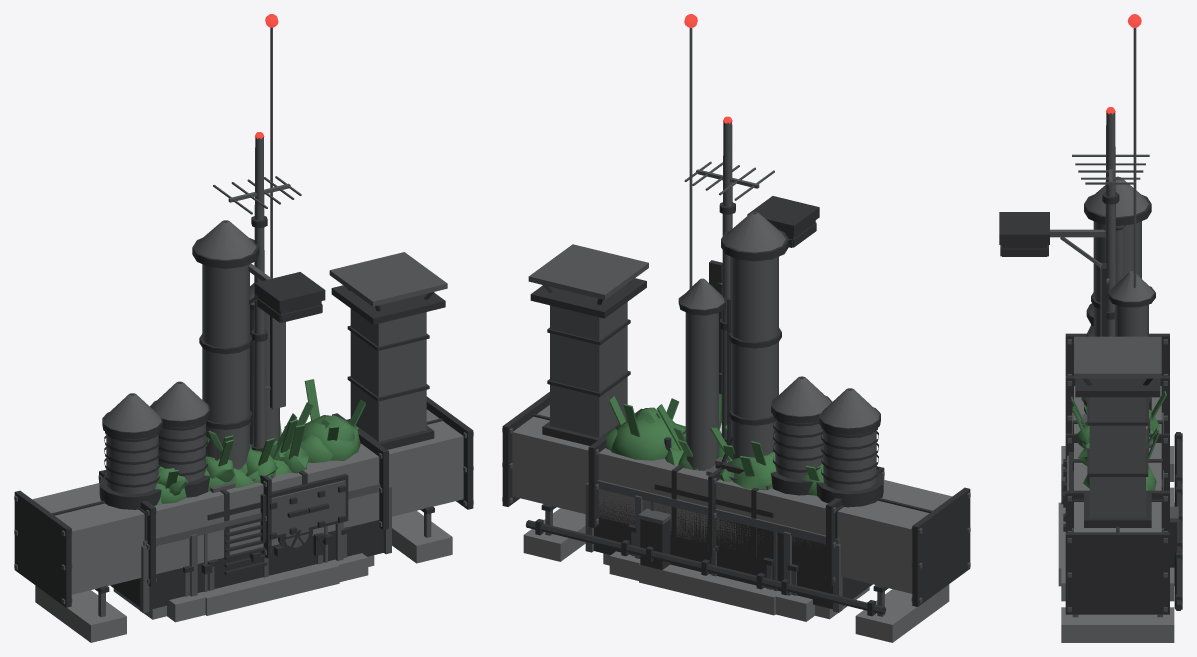
File: roof249.glb
The picture shows the model from 3 angles, left to right: view 1: azimuth 30°, elevation 25°; view 2: azimuth 150°, elevation 25°; view 3: azimuth 270°, elevation 25°; orthographic projection.
Visible parts, largest first — view 1: r249-duct-r167-metal, r249-duct-r167-concrete, r249-duct-r167-dark, r249-stack-r167-metal, r249-ducts-r167-concrete, r249-whip-r167-metal, r249-planter-r167-dark, r249-ducts-r167-metal, r249-ducts-r167-dark, r249-planter-r167-leaf, r249-stack-r167-dark, r249-planters-r167-leaf (+5 smaller); view 2: r249-duct-r167-concrete, r249-duct-r167-metal, r249-stack-r167-metal, r249-duct-r167-dark, r249-planter-r167-dark, r249-ducts-r167-dark, r249-planter-r167-leaf, r249-whip-r167-metal, r249-ducts-r167-metal, r249-stack-r167-dark, r249-stack-r167-concrete, r249-planter-r167-metal (+4 smaller); view 3: r249-duct-r167-dark, r249-duct-r167-metal, r249-stack-r167-metal, r249-duct-r167-concrete, r249-whip-r167-metal, r249-ducts-r167-dark, r249-lamp-r167-dark, r249-ducts-r167-concrete, r249-stack-r167-dark, r249-lamp-r167-metal, r249-planter-r167-leaf, r249-whip-r167-dark (+2 smaller).
Boxes of the visible parts, x1=… form: r249-duct-r167-metal: x1=14, y1=252, x2=473, y2=617; r249-duct-r167-concrete: x1=32, y1=409, x2=463, y2=642; r249-duct-r167-dark: x1=14, y1=285, x2=473, y2=607; r249-stack-r167-metal: x1=195, y1=220, x2=308, y2=547; r249-ducts-r167-concrete: x1=154, y1=443, x2=379, y2=622; r249-whip-r167-metal: x1=213, y1=27, x2=301, y2=447; r249-planter-r167-dark: x1=110, y1=520, x2=383, y2=609; r249-ducts-r167-metal: x1=98, y1=381, x2=389, y2=596; r249-ducts-r167-dark: x1=99, y1=382, x2=388, y2=586; r249-planter-r167-leaf: x1=155, y1=379, x2=365, y2=504; r249-stack-r167-dark: x1=192, y1=221, x2=322, y2=574; r249-planters-r167-leaf: x1=204, y1=413, x2=329, y2=491; r249-duct-r167-concrete: x1=512, y1=405, x2=952, y2=642; r249-duct-r167-metal: x1=502, y1=244, x2=970, y2=616; r249-stack-r167-metal: x1=638, y1=212, x2=785, y2=524; r249-duct-r167-dark: x1=502, y1=278, x2=970, y2=616; r249-planter-r167-dark: x1=594, y1=494, x2=872, y2=609; r249-ducts-r167-dark: x1=588, y1=377, x2=884, y2=595; r249-planter-r167-leaf: x1=605, y1=393, x2=823, y2=495; r249-whip-r167-metal: x1=684, y1=28, x2=774, y2=438; r249-ducts-r167-metal: x1=588, y1=376, x2=884, y2=595; r249-stack-r167-dark: x1=640, y1=212, x2=788, y2=569; r249-stack-r167-concrete: x1=639, y1=564, x2=776, y2=615; r249-planter-r167-metal: x1=585, y1=480, x2=842, y2=612; r249-duct-r167-dark: x1=1061, y1=303, x2=1182, y2=614; r249-duct-r167-metal: x1=1067, y1=303, x2=1167, y2=617; r249-stack-r167-metal: x1=1082, y1=176, x2=1178, y2=522; r249-duct-r167-concrete: x1=1061, y1=446, x2=1174, y2=642; r249-whip-r167-metal: x1=1072, y1=28, x2=1149, y2=336; r249-ducts-r167-dark: x1=1061, y1=326, x2=1182, y2=565; r249-lamp-r167-dark: x1=999, y1=212, x2=1049, y2=256; r249-ducts-r167-concrete: x1=1061, y1=386, x2=1174, y2=601; r249-stack-r167-dark: x1=1084, y1=194, x2=1176, y2=567; r249-lamp-r167-metal: x1=1050, y1=225, x2=1125, y2=283; r249-planter-r167-leaf: x1=1081, y1=391, x2=1166, y2=490; r249-whip-r167-dark: x1=1101, y1=192, x2=1150, y2=433.
Size of the model in its own units: 3.4 by 4.35 by 1.3.
